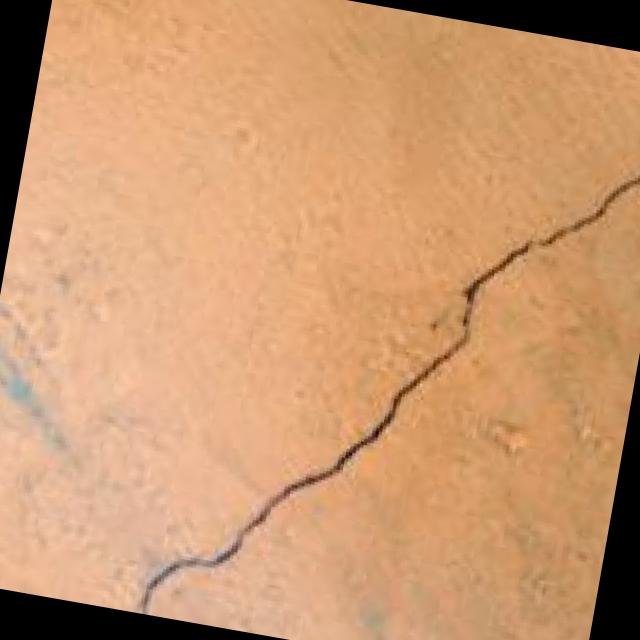crack: (126, 52, 640, 640)
